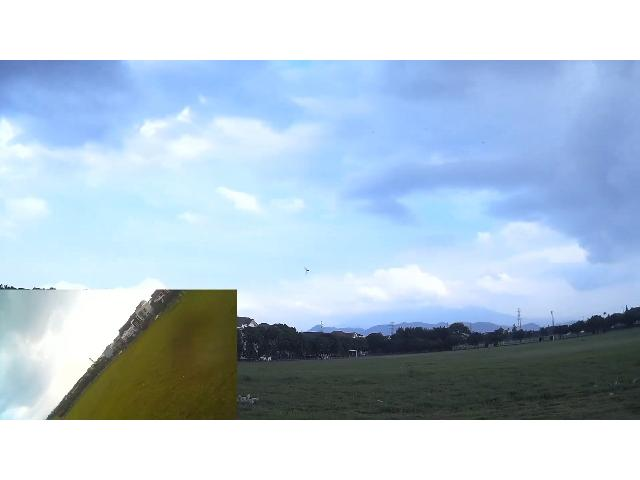Anti-Drone: (304, 268, 310, 274)
